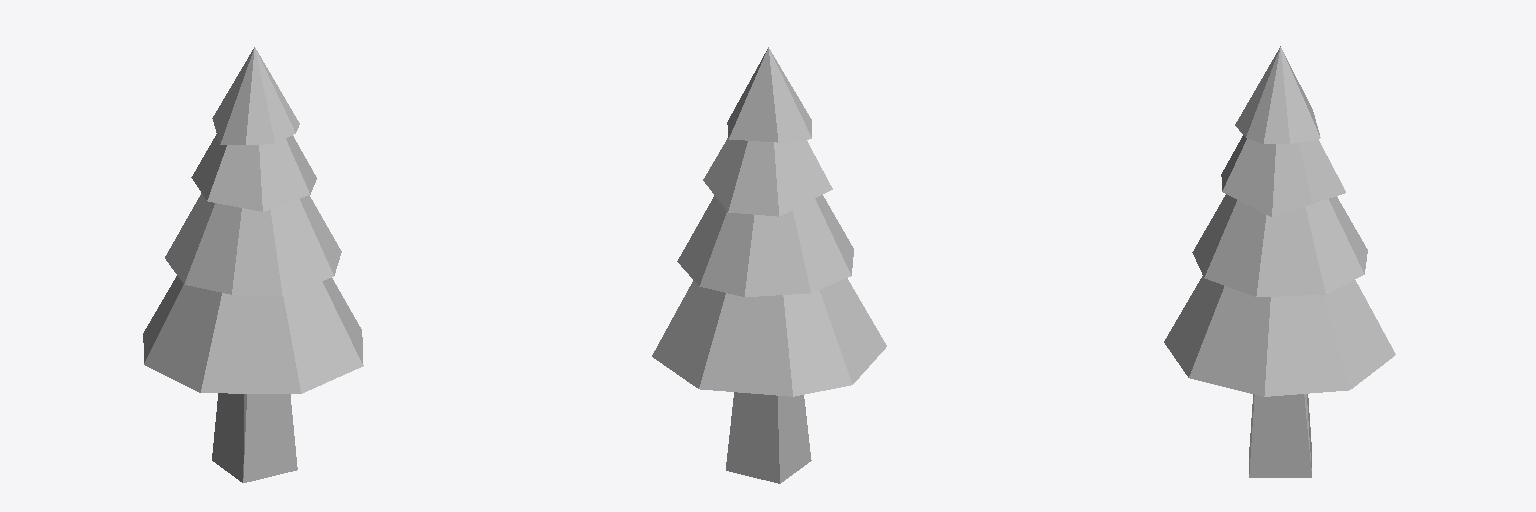
3 views of the same model, side by side, from view 1: azimuth 30°, elevation 25°; view 2: azimuth 150°, elevation 25°; view 3: azimuth 270°, elevation 25° (orthographic).
Visible parts, largest first — view 1: pine2_LOD2; view 2: pine2_LOD2; view 3: pine2_LOD2.
Part boxes in pixels (x1,y1,x2,y2): pine2_LOD2: (143, 47, 363, 482); pine2_LOD2: (652, 47, 886, 483); pine2_LOD2: (1164, 46, 1395, 477).
Size of the model in its own units: 5.14 by 10.45 by 5.25.